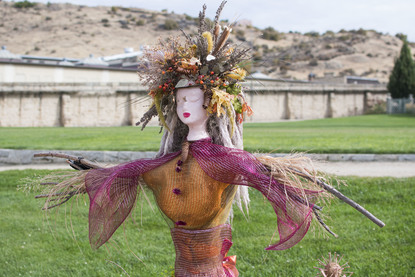person-like: (48, 22, 329, 277)
